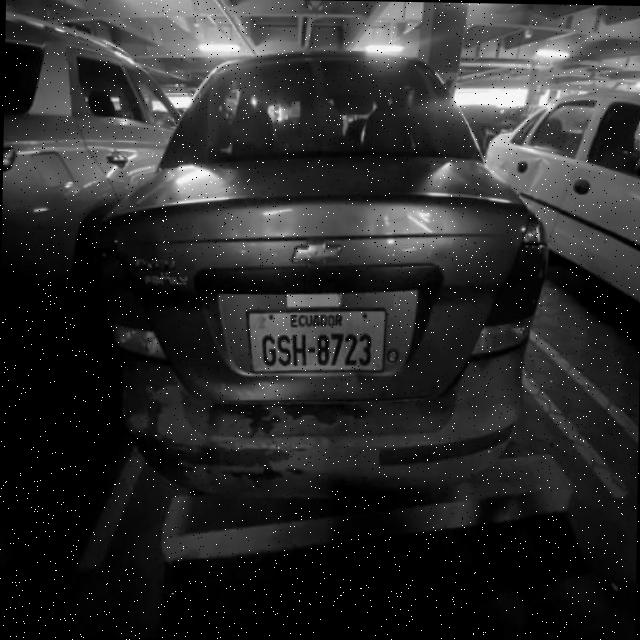Placa: (249, 310, 388, 371)
